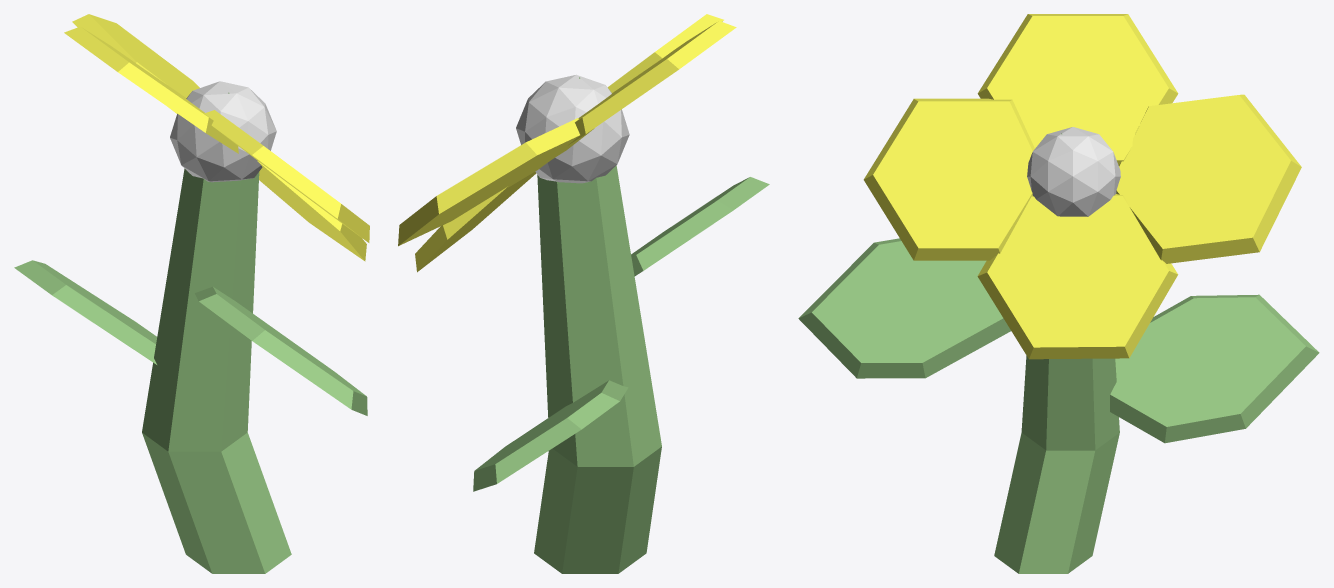
The model's file is Flor.fbx.
The picture shows the model from 3 angles, left to right: view 1: azimuth 30°, elevation 25°; view 2: azimuth 150°, elevation 25°; view 3: azimuth 270°, elevation 25°; orthographic projection. The views are drawn at different scales.
Visible parts, largest first — view 1: Cube; view 2: Cube; view 3: Cube.
Part boxes in pixels (left/top/right/bottom): Cube: left=14, top=14, right=369, bottom=573; Cube: left=398, top=14, right=769, bottom=573; Cube: left=798, top=14, right=1319, bottom=573.
Size of the model in its own units: 169 by 336 by 325.
